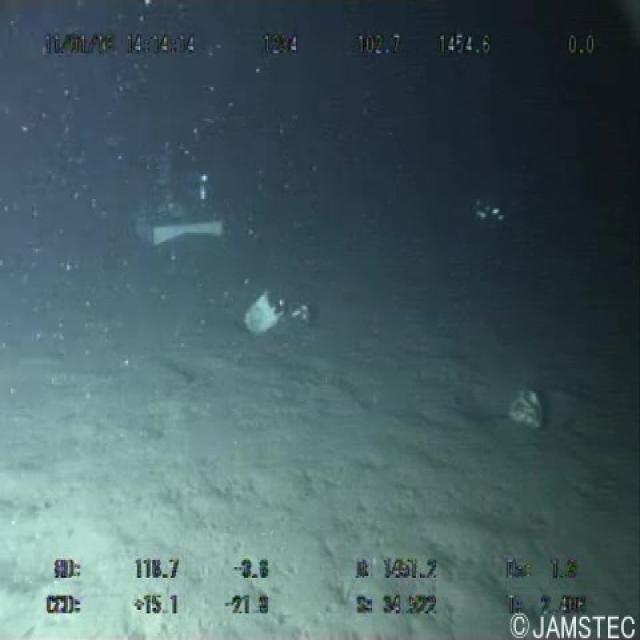plastic: (238, 286, 274, 336)
